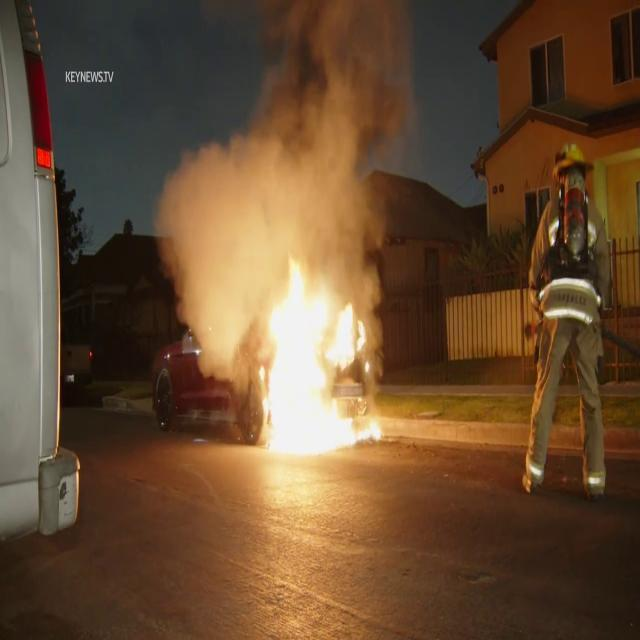Fire: (244, 230, 386, 462)
Smoke: (154, 1, 420, 274)
